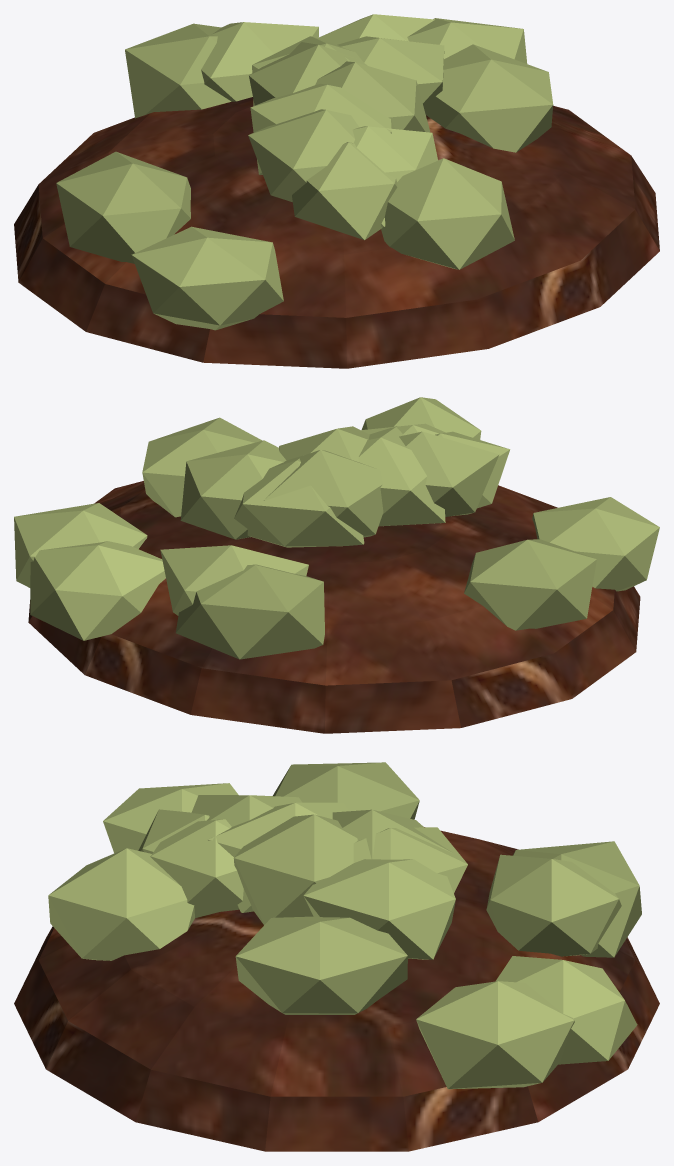
The model's file is moss.glb.
The picture shows the model from 3 angles, top to bottom: view 1: azimuth 30°, elevation 25°; view 2: azimuth 150°, elevation 25°; view 3: azimuth 270°, elevation 25°; orthographic projection. The views are drawn at different scales.
Visible parts, largest first — view 1: model; view 2: model; view 3: model.
Part boxes in pixels (x1,y1,x2,y2): model: [14, 14, 659, 368]; model: [14, 397, 659, 733]; model: [14, 762, 659, 1151].
Size of the model in its own units: 0.234 by 0.0713 by 0.216.
Materials: 16 (1 with a texture image).
